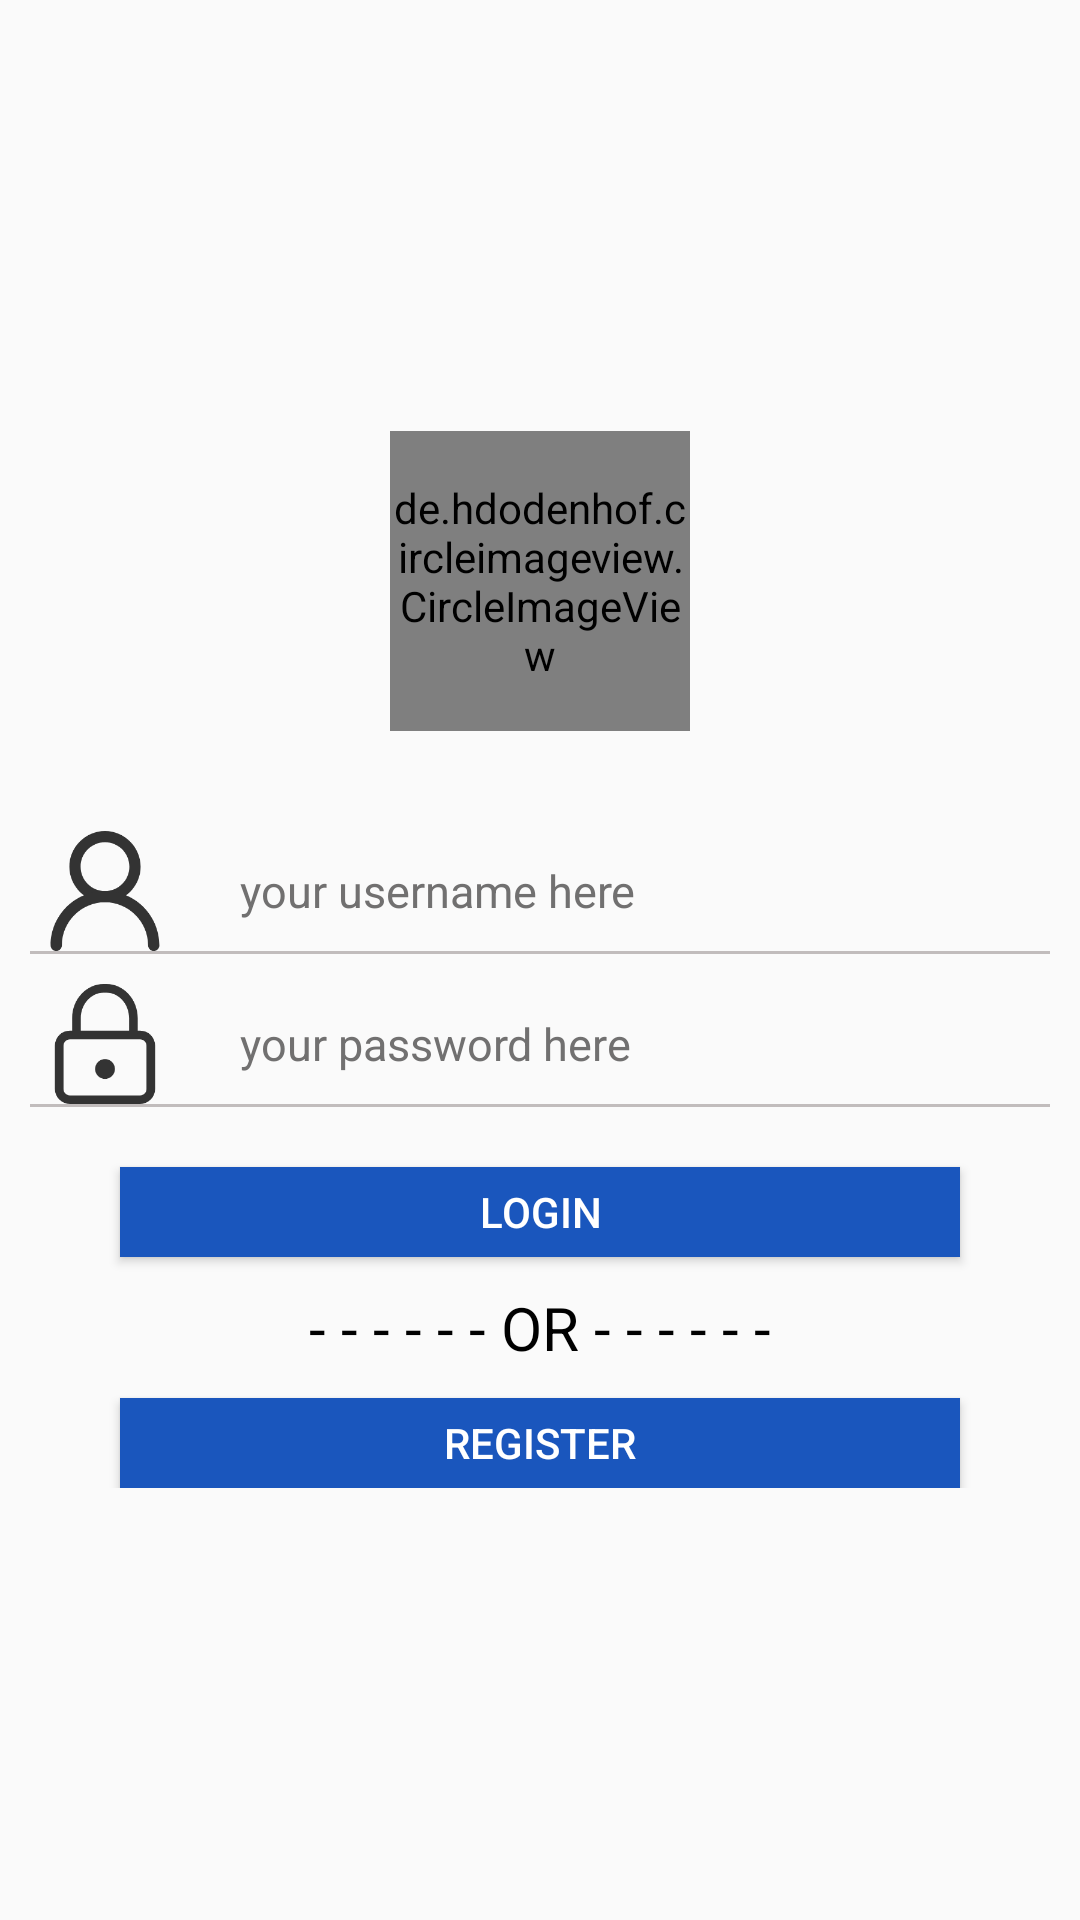

Screen size 1080x1920. Icon name, then its box in pixels as detection(x1, y1, x2, y2):
user password: detection(54, 984, 156, 1104)
